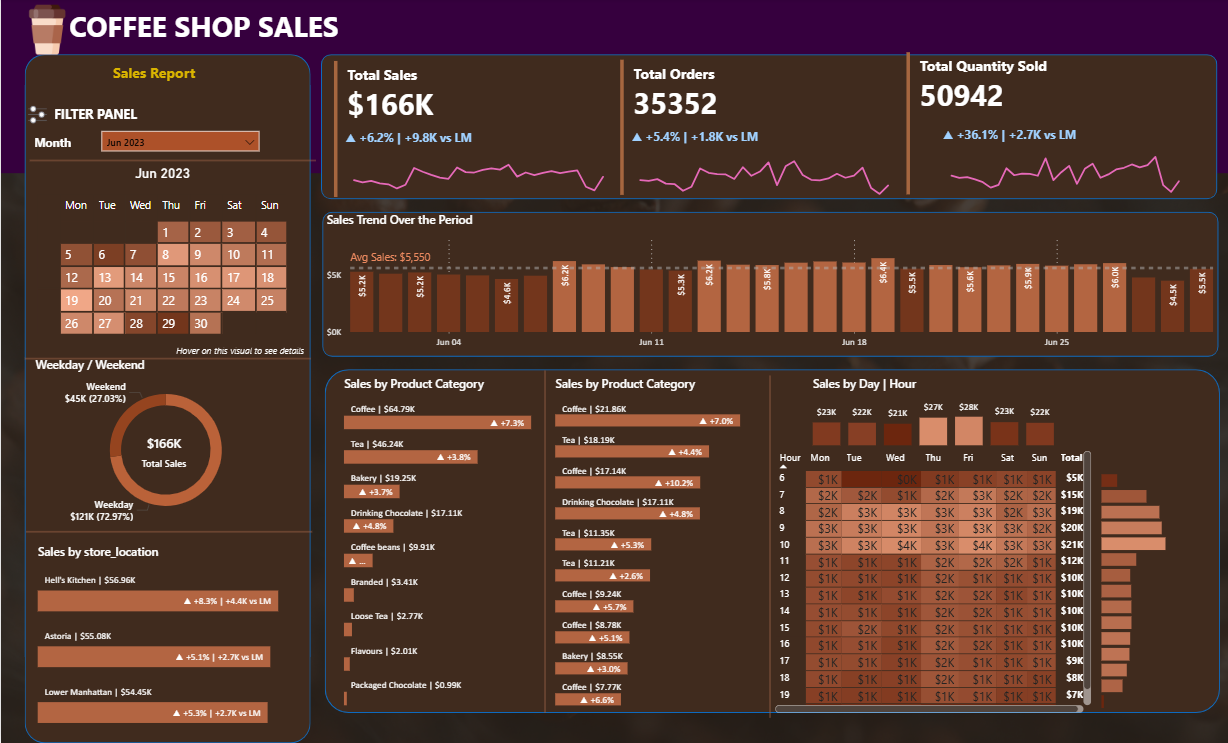

The dashboard page shown, as its layout file describes it:
{"tool":"powerbi","page":{"name":"Page 1","canvas":[1400,850],"ordinal":0},"visuals":[{"type":"shape","box":[0,0,1400.3,199.6],"z":0},{"type":"shape","box":[27,64.5,325.7,785],"z":1000},{"type":"shape","box":[364.6,64.1,1021.2,165.2],"z":2000},{"type":"textbox","box":[72,6,334.7,58.5],"z":3000},{"type":"cardVisual","fields":{"Data":["Transactions.Total Quantity Sold"]},"box":[1026.4,56.8,330.4,172.3],"z":4000,"group":"g4"},{"type":"cardVisual","fields":{"Data":["Transactions.Total Orders"]},"box":[700.7,65.5,324.3,164.4],"z":4000,"group":"g3"},{"type":"cardVisual","fields":{"Data":["Transactions.Total Sales"]},"box":[374.6,66.9,326.2,165.2],"z":4000,"group":"g2"},{"type":"slicer","fields":{"Values":["Date Table.Month Year"]},"box":[110,147.1,190,37.1],"z":4000},{"type":"group","id":"g1","title":"Group 1","box":[700.7,65.5,324.7,165.2],"z":5000},{"type":"lineChart","fields":{"Category":["Date Table.Date.Variation.Date Hierarchy.Year","Date Table.Date.Variation.Date Hierarchy.Quarter","Date Table.Date.Variation.Date Hierarchy.Month","Date Table.Date.Variation.Date Hierarchy.Day"],"Y":["Transactions.Total Quantity Sold"]},"box":[1067.9,147.2,289.1,82.6],"z":5001,"group":"g4"},{"type":"lineChart","fields":{"Category":["Date Table.Date.Variation.Date Hierarchy.Year","Date Table.Date.Variation.Date Hierarchy.Quarter","Date Table.Date.Variation.Date Hierarchy.Month","Date Table.Date.Variation.Date Hierarchy.Day"],"Y":["Transactions.Total Orders"]},"box":[714.2,148.4,312.5,82.3],"z":5001,"group":"g3"},{"type":"lineChart","fields":{"Y":["Transactions.Total Sales"],"Category":["Date Table.Date.Variation.Date Hierarchy.Year","Date Table.Date.Variation.Date Hierarchy.Quarter","Date Table.Date.Variation.Date Hierarchy.Month","Date Table.Date.Variation.Date Hierarchy.Day"]},"box":[387,149.5,313.8,82.6],"z":5001,"group":"g2"},{"type":"group","id":"g2","title":"Group 2","box":[374.6,66.9,326.2,165.2],"z":6000},{"type":"group","id":"g3","title":"Group 3","box":[700.7,65.5,326,165.2],"z":6002,"group":"g1"},{"type":"group","id":"g4","title":"Group 3","box":[1026.4,56.8,330.7,173],"z":7000},{"type":"pivotTable","fields":{"Rows":["Date Table.Week Number"],"Columns":["Date Table.First Day Name"],"Values":["Min(Date Table.Day Number)"]},"box":[37,219.3,304.8,189.4],"z":8000},{"type":"card","fields":{"Values":["Min(Date Table.Month Year)"]},"box":[138.2,180.9,92.6,38.5],"z":9000},{"type":"card","fields":{"Values":["Transactions.Foot Note"]},"box":[186.6,387.4,172.3,21.4],"z":10000},{"type":"shape","box":[27.1,403.1,326.2,15.7],"z":11000},{"type":"shape","box":[32.8,175.2,326.2,19.9],"z":12000},{"type":"donutChart","title":"Weekday / Weekend","fields":{"Category":["Date Table.Weekday / Weekend"],"Y":["Transactions.Total Sales"]},"box":[34.2,408.8,307.6,195.1],"z":13000},{"type":"card","fields":{"Values":["Transactions.Total Sales"]},"box":[145.3,492.8,81.2,47],"z":14000},{"type":"shape","box":[28.5,592.5,326.2,31.3],"z":15000},{"type":"clusteredBarChart","title":" Sales by store_location","fields":{"Category":["Transactions.store_location"],"Y":["Transactions.Placeholder","Transactions.Total Sales"]},"box":[37,621,307.6,213.6],"z":16000},{"type":"shape","box":[368.3,423.3,1020,391.7],"z":17000},{"type":"shape","box":[366,243.6,1021.2,165.2],"z":18000},{"type":"columnChart","title":"Sales Trend Over the Period","fields":{"Category":["Transactions.transaction_date"],"Y":["Transactions.Total Sales"]},"box":[366,243.6,1021.2,165.2],"z":19000},{"type":"clusteredBarChart","title":" Sales by Product Category","fields":{"Y":["Transactions.Placeholder","Transactions.Total Sales"],"Category":["Transactions.product_category"]},"box":[386.7,430,250,381.7],"z":20000},{"type":"shape","box":[604,424,32,390],"z":21000},{"type":"clusteredBarChart","title":" Sales by Product Category","fields":{"Y":["Transactions.Placeholder","Transactions.Total Sales"],"Category":["Transactions.product_type"]},"box":[626.7,430,250,381.7],"z":22000},{"type":"shape","box":[860,430,32,390],"z":23000},{"type":"pivotTable","fields":{"Rows":["Transactions.Hour"],"Columns":["Date Table.First Day Name"],"Values":["Transactions.Total Sales"]},"box":[878,512,370,308],"z":24000},{"type":"clusteredBarChart","fields":{"Category":["Transactions.Hour"],"Y":["Transactions.Total Sales"]},"box":[1248.6,530,113,284.3],"z":25000},{"type":"columnChart","title":"Sales by Day | Hour","fields":{"Y":["Transactions.Total Sales"],"Category":["Date Table.First Day Name"]},"box":[920,430,285.7,85.7],"z":26000},{"type":"textbox","box":[32.9,151.4,77.1,30],"z":27000},{"type":"textbox","box":[122.5,68.4,126.8,32.8],"z":28000},{"type":"textbox","box":[55.5,116.8,129.6,29.9],"z":29000},{"type":"image","box":[17.1,116.8,48.4,32.8],"z":30000},{"type":"image","box":[17.1,2.8,71.2,66.9],"z":31000}]}

Visuals, with their boxes in screenshot pixels (x1, y1, x2, y2), scaled from the page's 1400x850 canvas onto the 1228x743 screenshot:
shape: pyautogui.locateOnScreen(0, 0, 1227, 174)
shape: pyautogui.locateOnScreen(24, 56, 309, 742)
shape: pyautogui.locateOnScreen(320, 56, 1216, 200)
textbox: pyautogui.locateOnScreen(63, 5, 357, 56)
cardVisual - Transactions.Total Quantity Sold: pyautogui.locateOnScreen(900, 50, 1190, 200)
cardVisual - Transactions.Total Orders: pyautogui.locateOnScreen(615, 57, 899, 201)
cardVisual - Transactions.Total Sales: pyautogui.locateOnScreen(329, 58, 615, 203)
slicer - Date Table.Month Year: pyautogui.locateOnScreen(96, 129, 263, 161)
"Group 1" group: pyautogui.locateOnScreen(615, 57, 899, 202)
lineChart - Date Table.Date.Variation.Date Hierarchy.Year x Date Table.Date.Variation.Date Hierarchy.Quarter: pyautogui.locateOnScreen(937, 129, 1190, 201)
lineChart - Date Table.Date.Variation.Date Hierarchy.Year x Date Table.Date.Variation.Date Hierarchy.Quarter: pyautogui.locateOnScreen(626, 130, 901, 202)
lineChart - Transactions.Total Sales x Date Table.Date.Variation.Date Hierarchy.Year: pyautogui.locateOnScreen(339, 131, 615, 203)
"Group 2" group: pyautogui.locateOnScreen(329, 58, 615, 203)
"Group 3" group: pyautogui.locateOnScreen(615, 57, 901, 202)
"Group 3" group: pyautogui.locateOnScreen(900, 50, 1190, 201)
pivotTable - Date Table.Week Number x Date Table.First Day Name: pyautogui.locateOnScreen(32, 192, 300, 357)
card - Min(Date Table.Month Year): pyautogui.locateOnScreen(121, 158, 202, 192)
card - Transactions.Foot Note: pyautogui.locateOnScreen(164, 339, 315, 357)
shape: pyautogui.locateOnScreen(24, 352, 310, 366)
shape: pyautogui.locateOnScreen(29, 153, 315, 171)
"Weekday / Weekend" donutChart: pyautogui.locateOnScreen(30, 357, 300, 528)
card - Transactions.Total Sales: pyautogui.locateOnScreen(127, 431, 199, 472)
shape: pyautogui.locateOnScreen(25, 518, 311, 545)
" Sales by store_location" clusteredBarChart: pyautogui.locateOnScreen(32, 543, 302, 730)
shape: pyautogui.locateOnScreen(323, 370, 1218, 712)
shape: pyautogui.locateOnScreen(321, 213, 1217, 357)
"Sales Trend Over the Period" columnChart: pyautogui.locateOnScreen(321, 213, 1217, 357)
" Sales by Product Category" clusteredBarChart: pyautogui.locateOnScreen(339, 376, 558, 710)
shape: pyautogui.locateOnScreen(530, 371, 558, 712)
" Sales by Product Category" clusteredBarChart: pyautogui.locateOnScreen(550, 376, 769, 710)
shape: pyautogui.locateOnScreen(754, 376, 782, 717)
pivotTable - Transactions.Hour x Date Table.First Day Name: pyautogui.locateOnScreen(770, 448, 1095, 717)
clusteredBarChart - Transactions.Hour x Transactions.Total Sales: pyautogui.locateOnScreen(1095, 463, 1194, 712)
"Sales by Day | Hour" columnChart: pyautogui.locateOnScreen(807, 376, 1058, 451)
textbox: pyautogui.locateOnScreen(29, 132, 96, 159)
textbox: pyautogui.locateOnScreen(107, 60, 219, 88)
textbox: pyautogui.locateOnScreen(49, 102, 162, 128)
image: pyautogui.locateOnScreen(15, 102, 57, 131)
image: pyautogui.locateOnScreen(15, 2, 77, 61)
